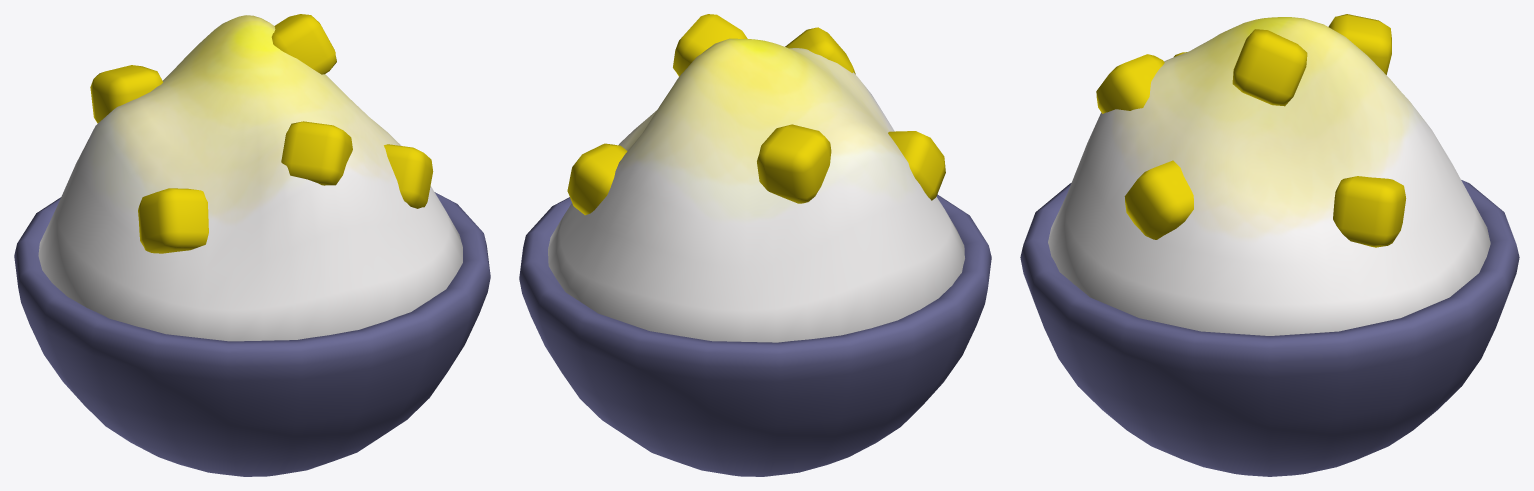
Rendered from ice.fbx.
The picture shows the model from 3 angles, left to right: view 1: azimuth 30°, elevation 25°; view 2: azimuth 150°, elevation 25°; view 3: azimuth 270°, elevation 25°; orthographic projection. The views are drawn at different scales.
Visible parts, largest first — view 1: pCone1, pSphere30, pCube4, pCube5, pCube3, pCube6, pCube7; view 2: pCone1, pSphere30, pCube6, pCube8, pCube4, pCube3, pCube5; view 3: pCone1, pSphere30, pCube8, pCube3, pCube7, pCube5, pCube6.
Part boxes in pixels (box(x1,y1,x2,y2)): pCone1: box(38, 15, 462, 341); pSphere30: box(14, 192, 490, 476); pCube4: box(138, 188, 208, 253); pCube5: box(281, 121, 352, 185); pCube3: box(271, 14, 336, 74); pCube6: box(90, 65, 163, 123); pCube7: box(384, 144, 433, 208); pCone1: box(548, 38, 964, 342); pSphere30: box(519, 194, 991, 476); pCube6: box(757, 124, 831, 203); pCube8: box(567, 143, 627, 215); pCube4: box(888, 131, 945, 200); pCube3: box(673, 14, 747, 76); pCube5: box(785, 27, 855, 74); pCone1: box(1048, 17, 1490, 335); pSphere30: box(1020, 180, 1519, 476); pCube8: box(1333, 176, 1406, 247); pCube3: box(1232, 29, 1307, 106); pCube7: box(1124, 160, 1193, 239); pCube5: box(1096, 54, 1164, 113); pCube6: box(1328, 14, 1391, 74).
Bounding box in the file's own units: 0.3672 × 0.3684 × 0.3672.
